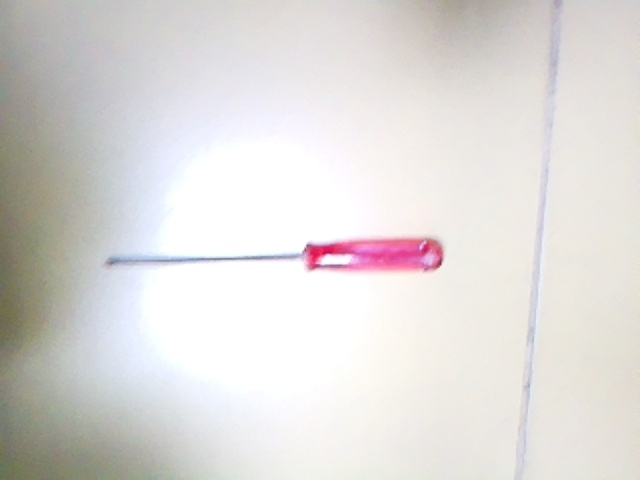redskrew: (106, 239, 460, 280)
